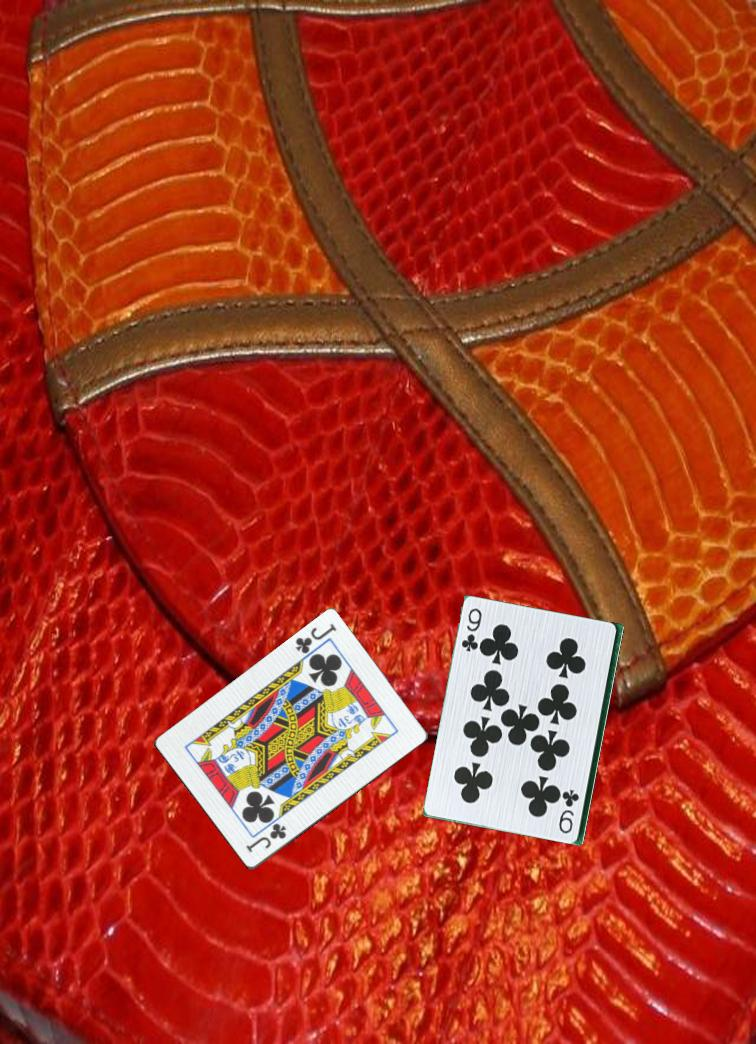9c: (458, 605, 485, 660), (559, 786, 582, 837)
jc: (292, 620, 339, 657), (242, 820, 289, 856)
